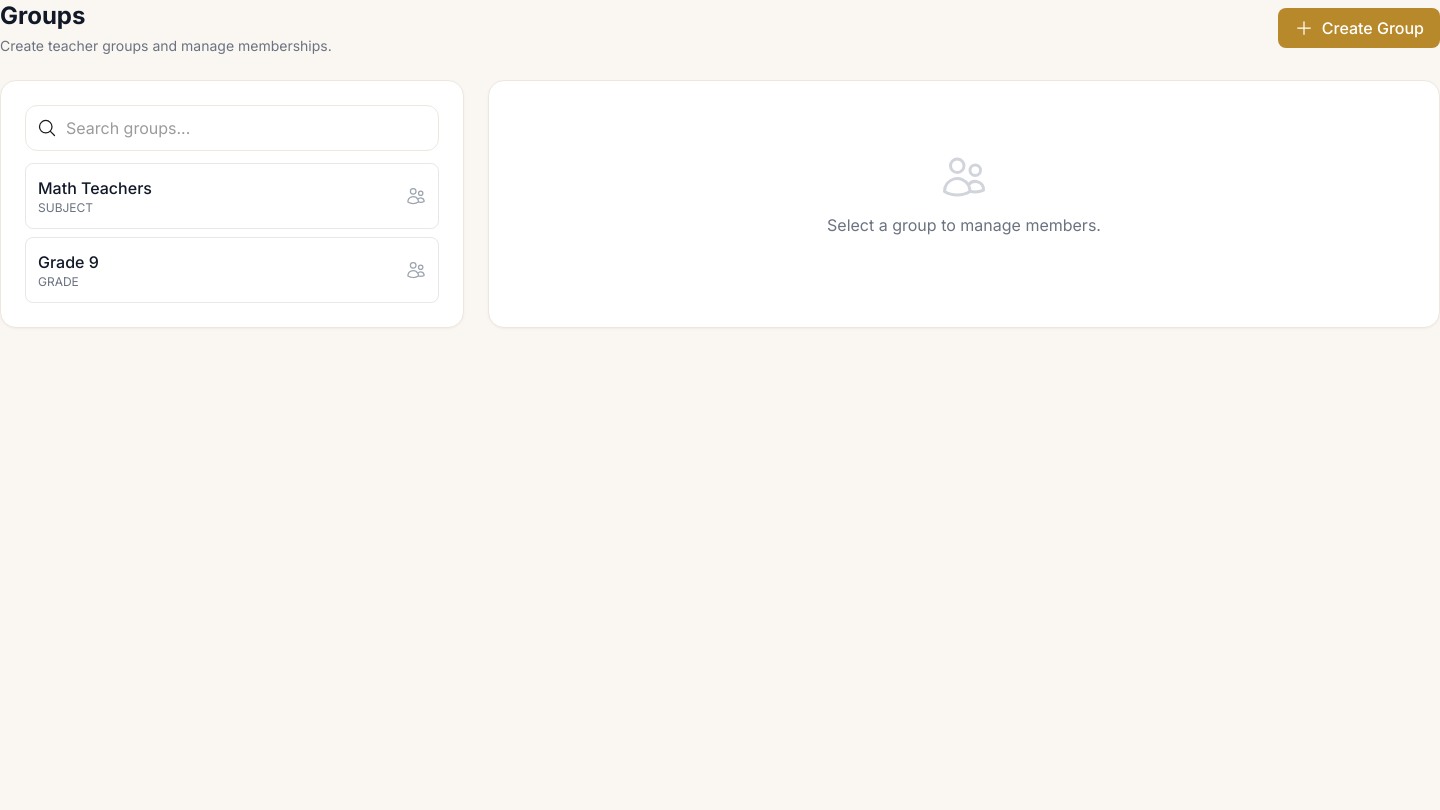
GroupsPage › create group modal › clicking Create Group opens the modal
Click the button "Create Group".
click(1359, 28)  # box [1278,8,1439,48]
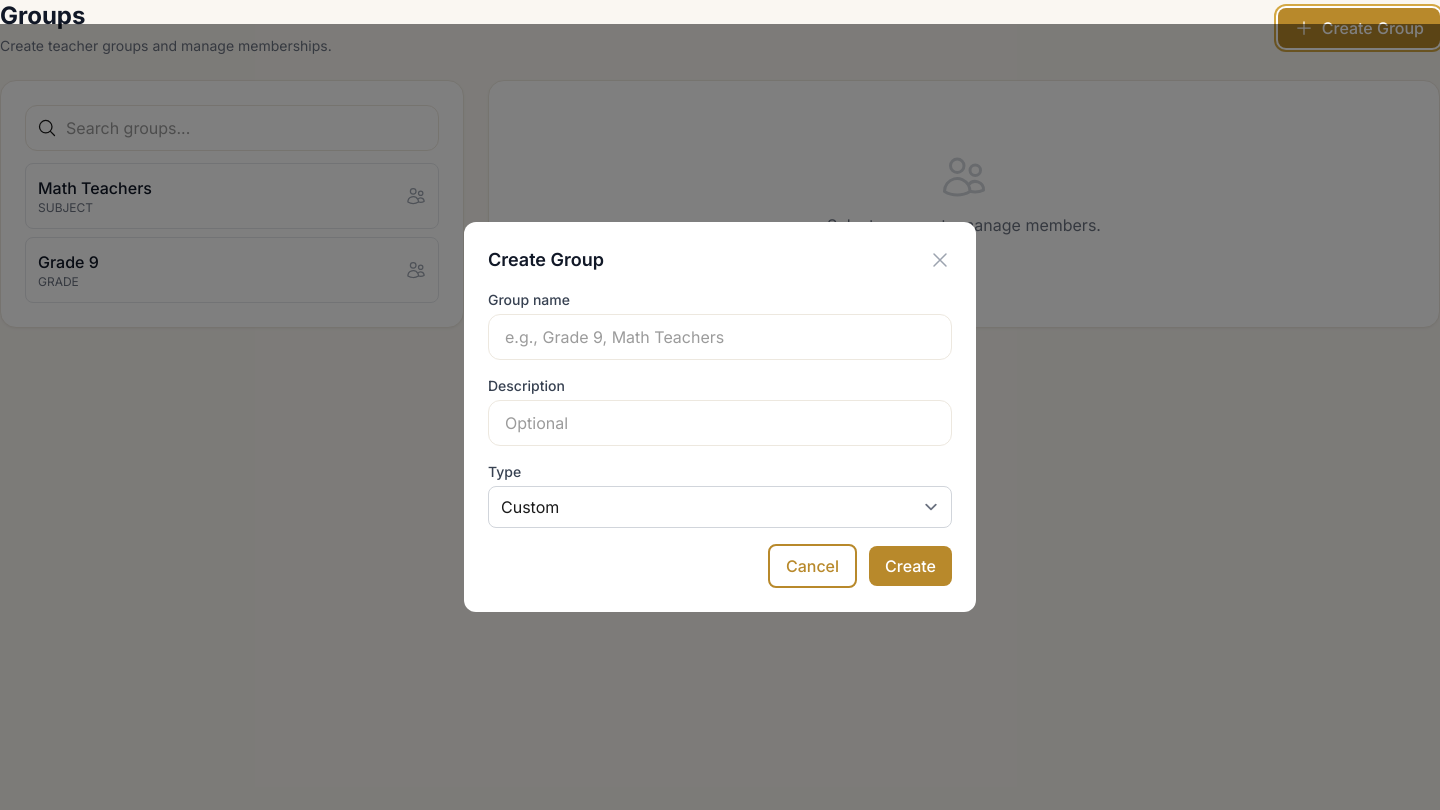
Now the heading "Create Group" is shown, box [488,246,604,274]
